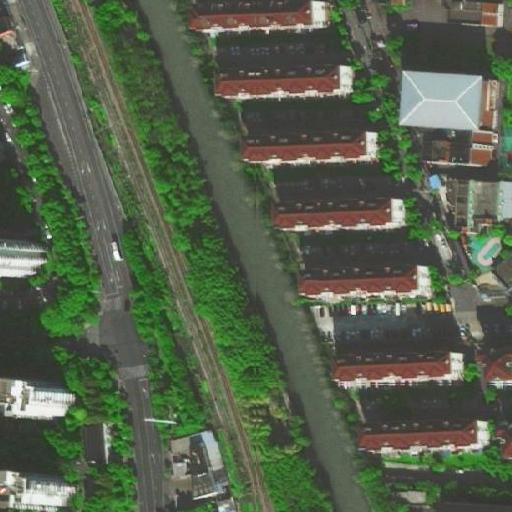building: (400, 73, 497, 130), (277, 195, 407, 226), (304, 263, 430, 294), (364, 423, 488, 454), (222, 65, 351, 94), (339, 353, 467, 382), (180, 432, 235, 499), (252, 129, 380, 157), (450, 177, 511, 232), (418, 124, 496, 165), (4, 471, 83, 511), (486, 249, 512, 293), (437, 498, 512, 512), (482, 351, 511, 387), (83, 421, 106, 464), (389, 478, 435, 499), (214, 490, 237, 512), (498, 418, 512, 453), (0, 2, 14, 31)
